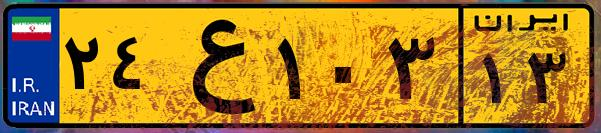0: (330, 28, 385, 110)
1: (270, 28, 330, 110), (475, 38, 525, 113)
2: (57, 26, 110, 100)
3: (385, 28, 445, 110), (525, 38, 570, 115)
4: (110, 28, 158, 98)
ع: (158, 12, 270, 120)
